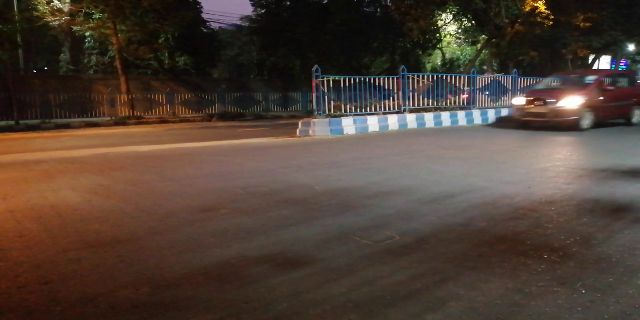Car: (509, 71, 635, 131)
